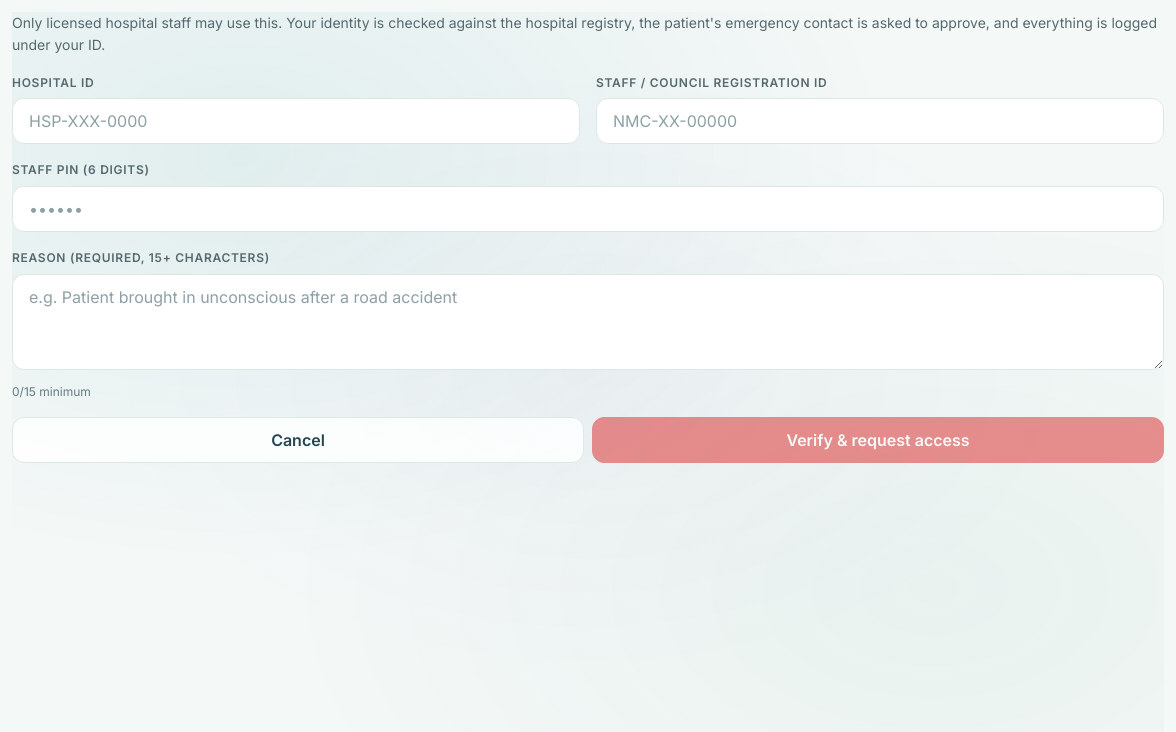
Test: Level 3 override panel › shows a clear message when the contact denies
In the field labelled "Hospital ID": (296, 121) [12,98,580,144], type "HSP-DEL-0001"
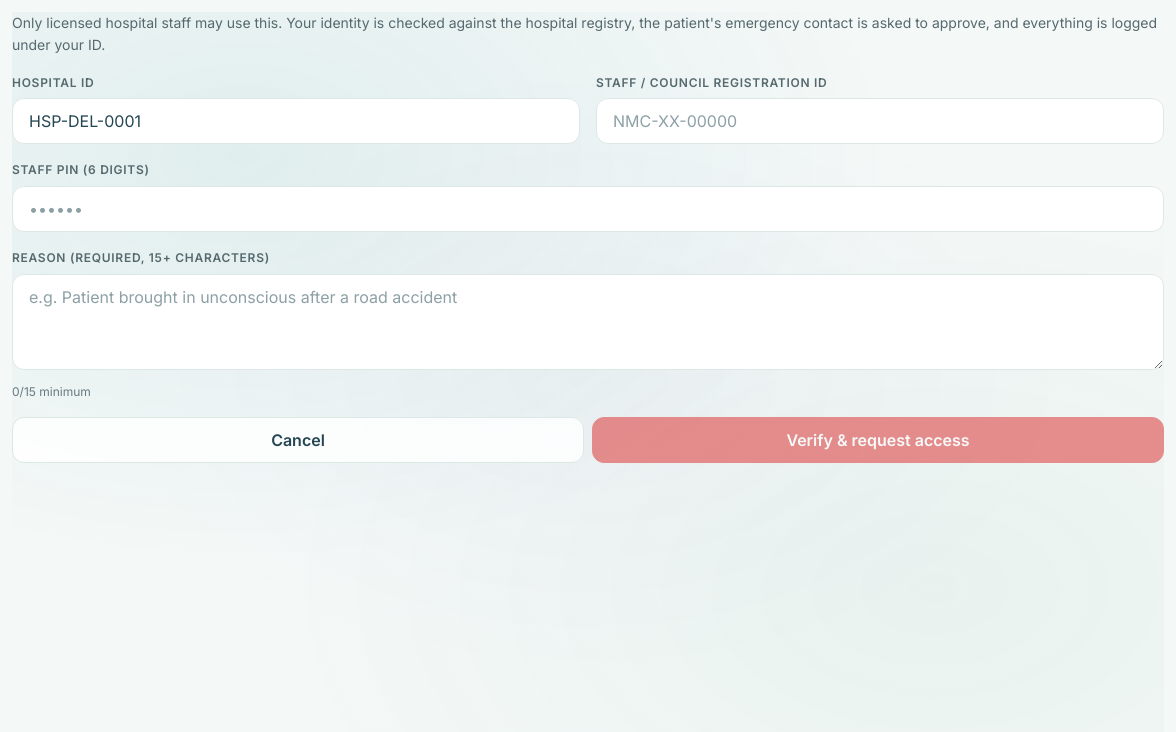
In the field labelled "Staff / council registration ID": (880, 121) [596,98,1164,144], type "NMC-DL-48213"
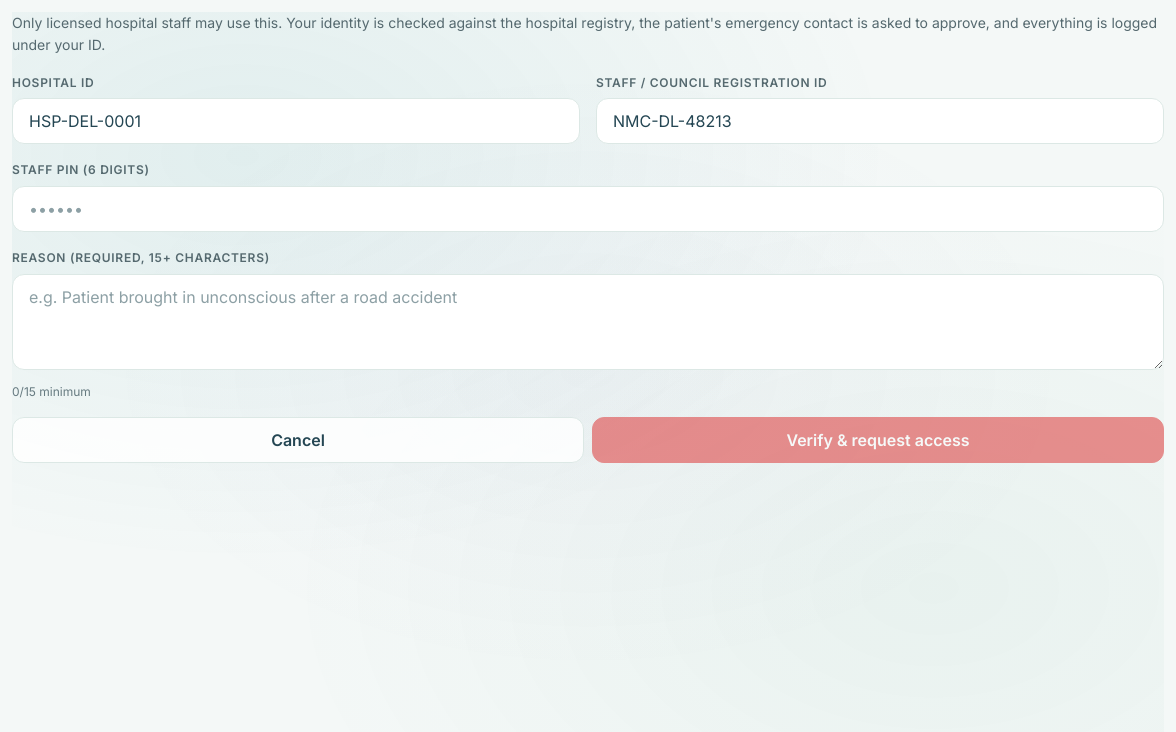
In the password field labelled "Staff PIN (6 digits)": (588, 209) [12,186,1164,232], type "482913"
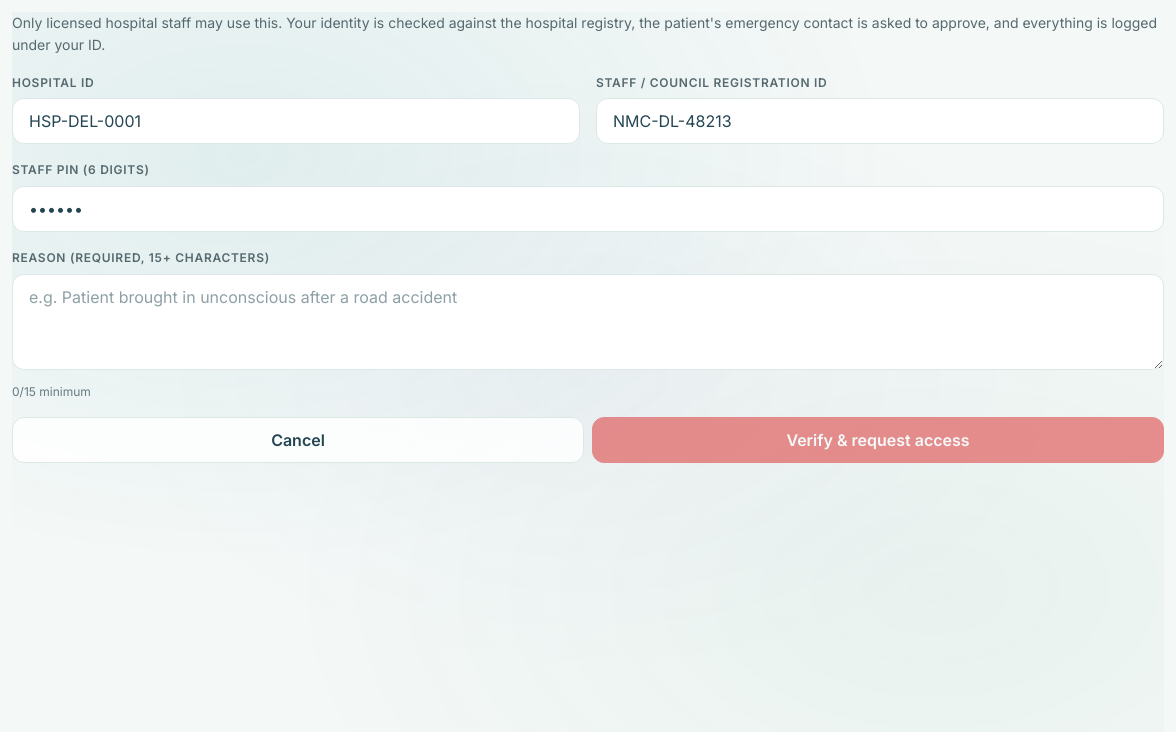
In the text box labelled "Reason (required, 15+ characters)": (588, 322) [12,274,1164,370], type "Patient unconscious after road accident"
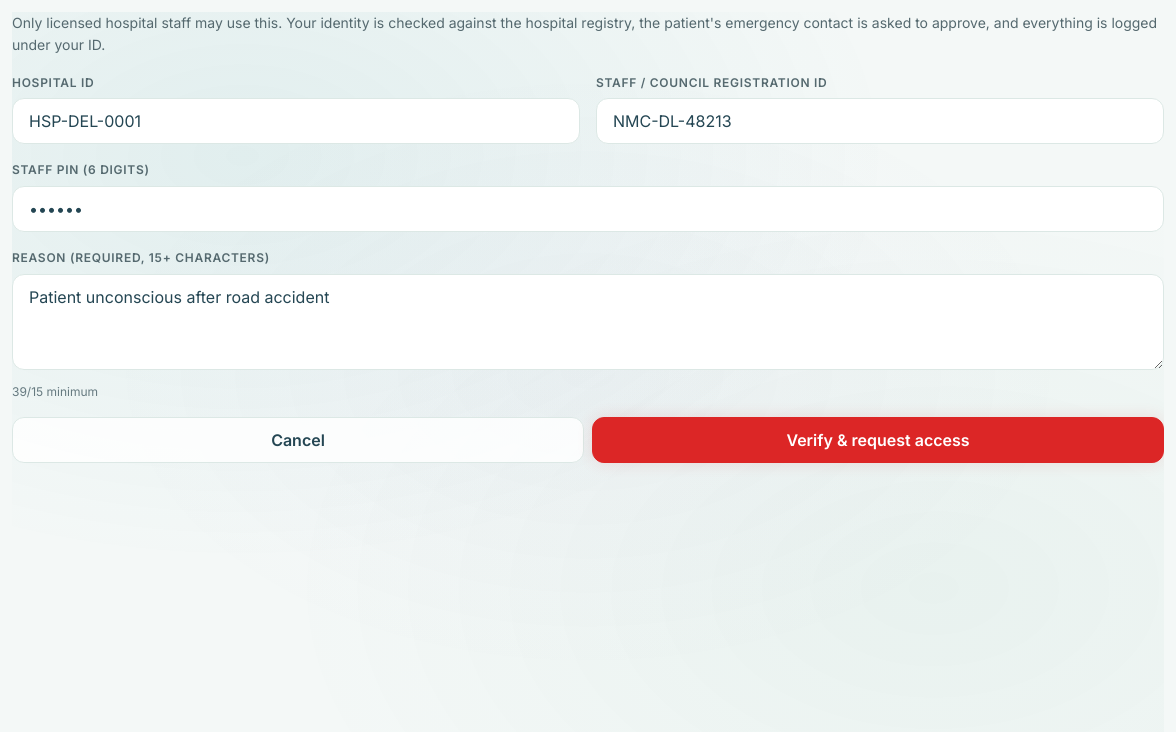
Click the button "Verify & request access": (878, 440) [592,417,1164,463]
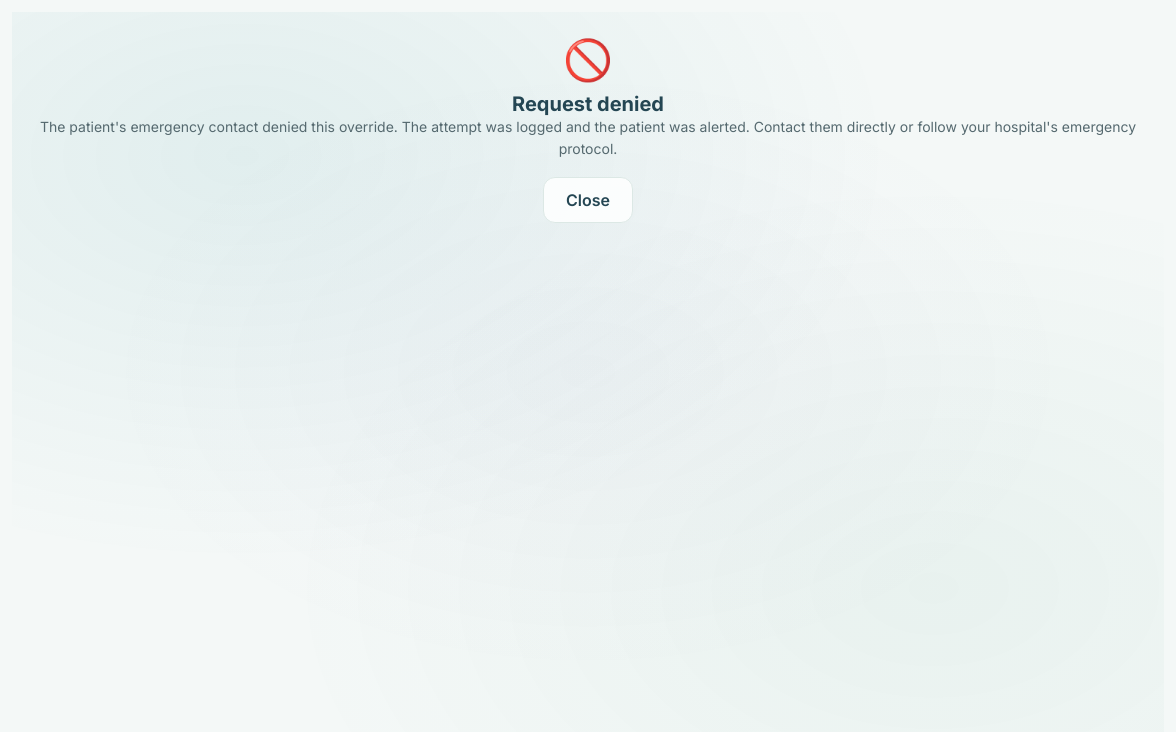
Expected: the heading "Request denied" is shown, [512,92,664,116]
